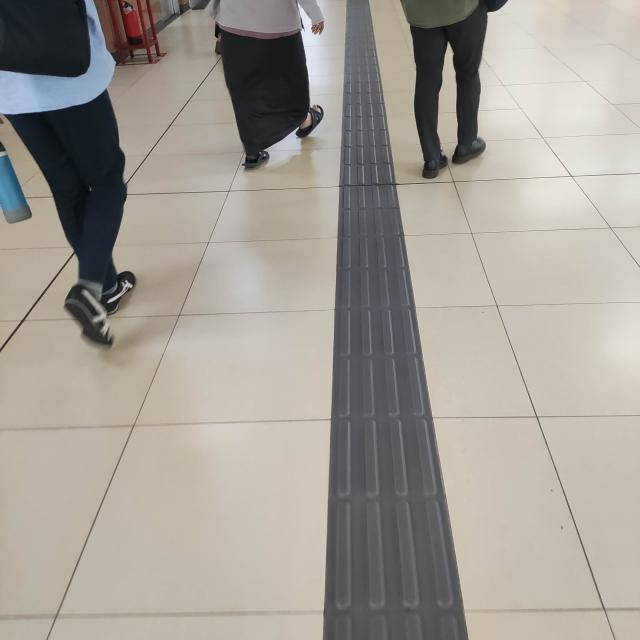lurus: (313, 159, 456, 635)
